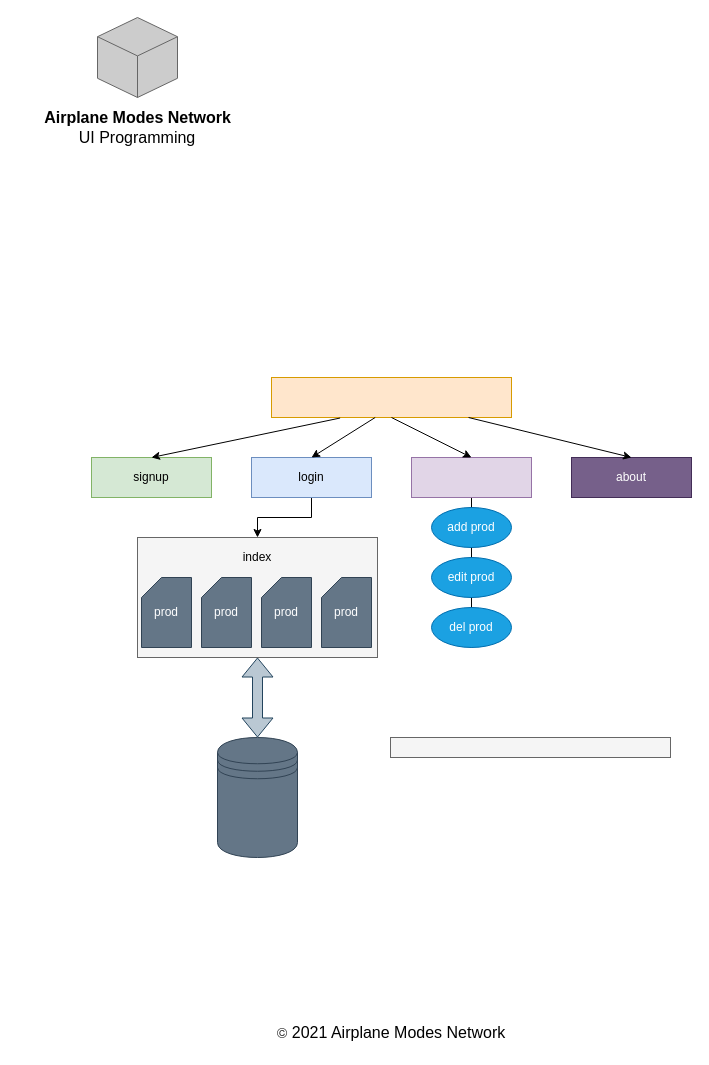
This 709x1065 diagram has some shape labels left out. Each missing label, with the box of its shape:
footer: (390, 736, 670, 758)
header: (270, 376, 512, 418)
my products: (410, 456, 532, 498)
SQL database: (216, 736, 298, 858)
